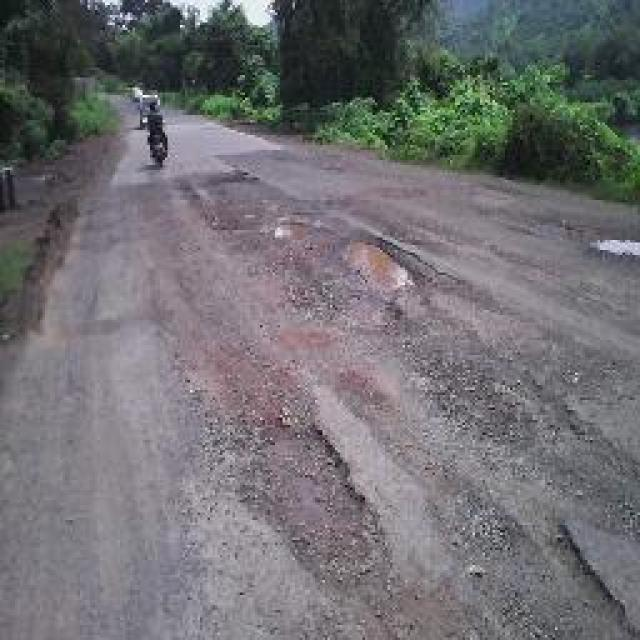waterlogging: (339, 237, 410, 291)
